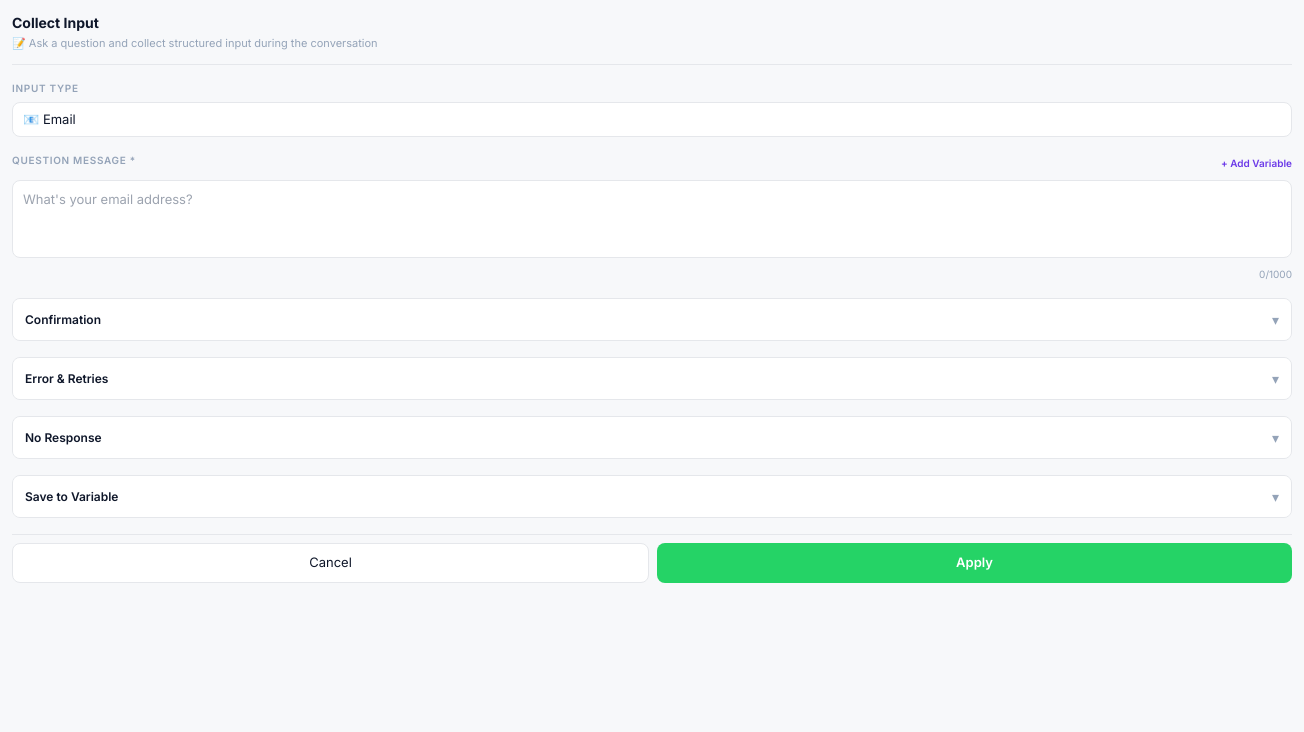
Test: CollectInputForm › shows confirmation section for text-based types and hides it for media types
expect the text "Confirmation" is shown: met, box 25,311 -> 101,329
Note: Change to Image — confirmation should not exist
Select "🖼 Image" in the dropdown labelled "Input Type" at (652, 119), box 12,102 -> 1292,137
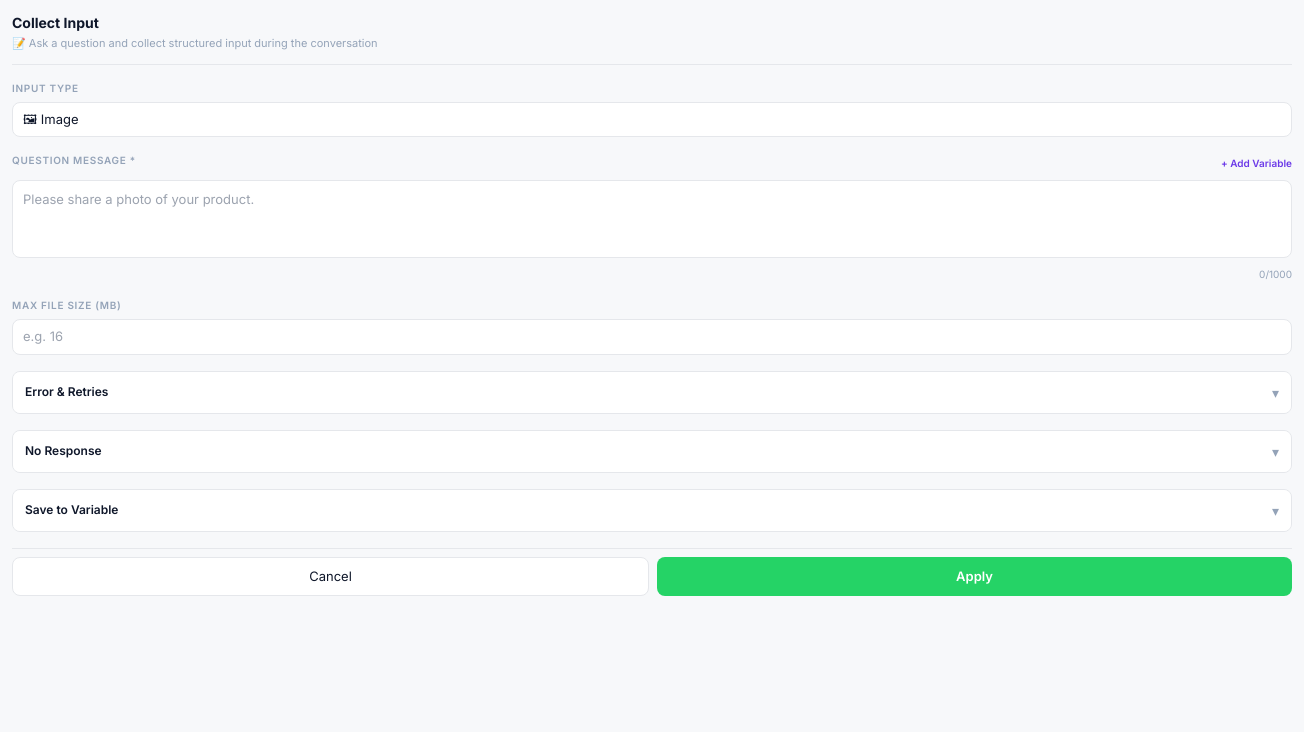
expect the text "Confirmation" is gone: met
